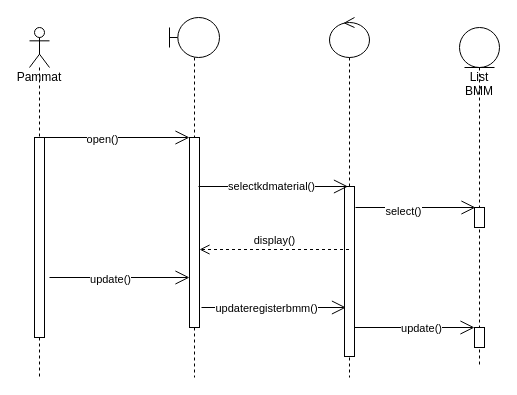
Some shapes in this 517 by 395 pixel diagram are drawn without their labels. Each missing label, with the box of its shape:
Control Approval Register BMM: (328, 16, 370, 378)
Halaman Approval Register BMM: (168, 16, 220, 378)
